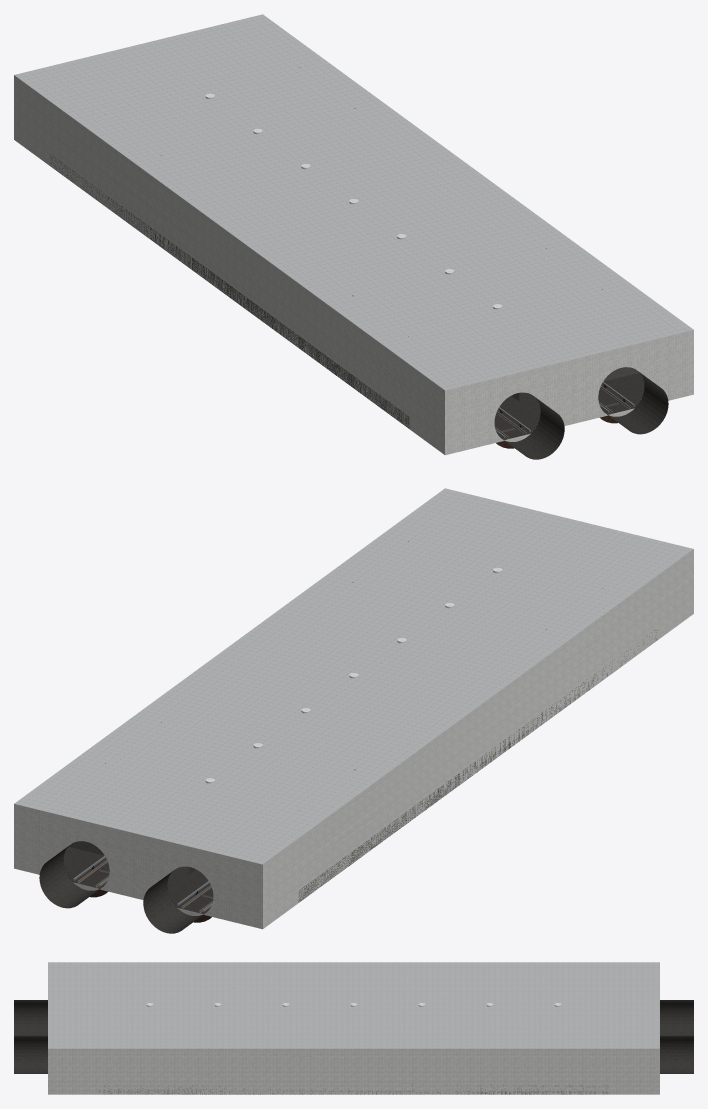
The model's file is station_st-enoch.glb.
3 renders of one model, top to bottom at view 1: azimuth 30°, elevation 25°; view 2: azimuth 150°, elevation 25°; view 3: azimuth 270°, elevation 25°, orthographic. The views are drawn at different scales.
Parts seen in each view (by area): view 1: hall_shell, end_walls; view 2: hall_shell, end_walls; view 3: hall_shell, end_walls.
Part boxes in pixels (box(x1,y1,x2,y2)): hall_shell: box(14, 14, 693, 454); end_walls: box(445, 330, 693, 459); hall_shell: box(14, 488, 693, 928); end_walls: box(14, 804, 262, 933); hall_shell: box(48, 962, 659, 1094); end_walls: box(14, 1000, 693, 1073).
Bounding box in the file's own units: 18 × 5.3 × 60.
Materials: 31 (21 with a texture image).
